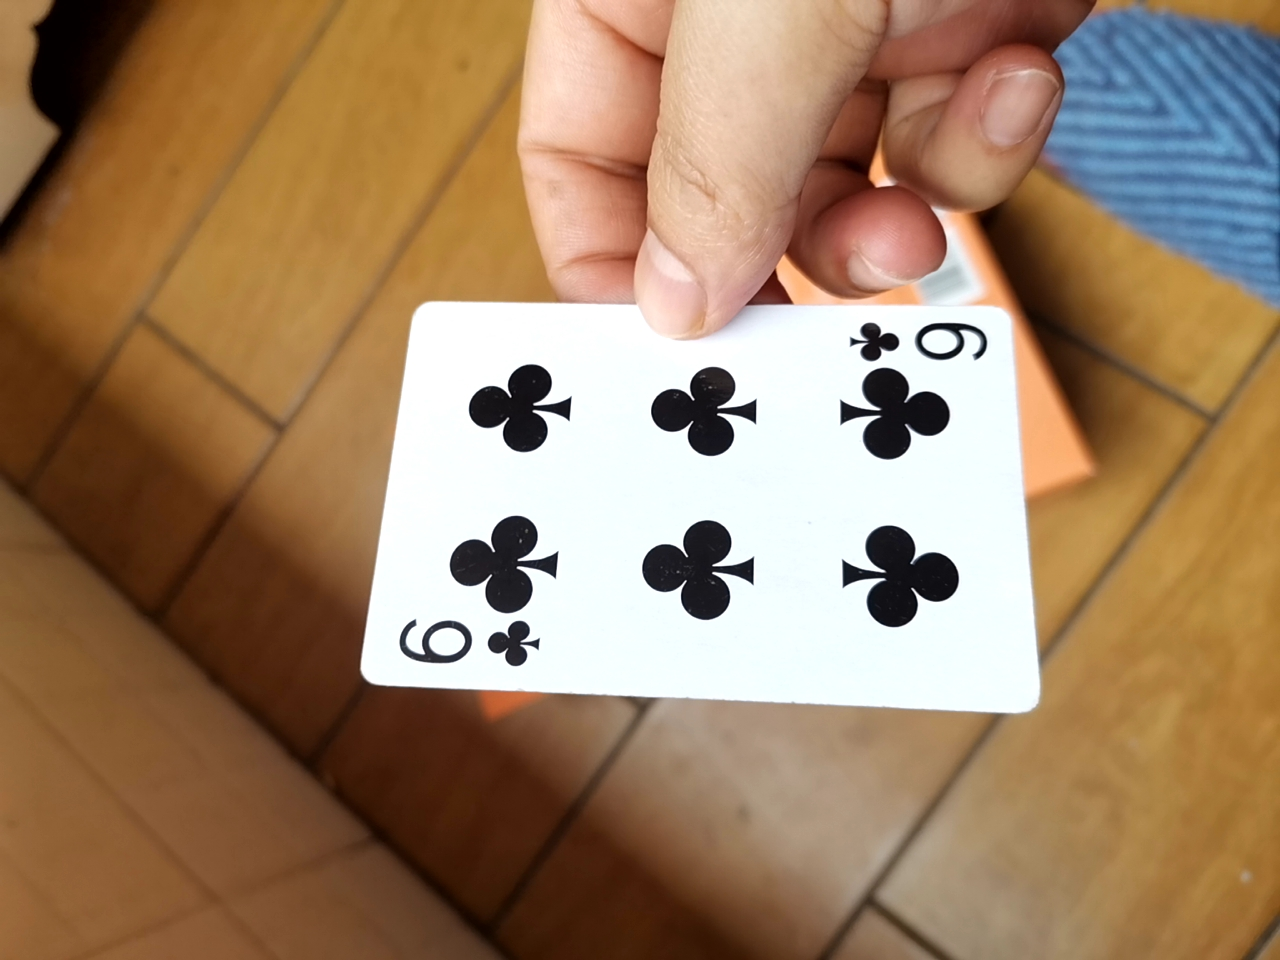mh 6: (340, 289, 1049, 717)
